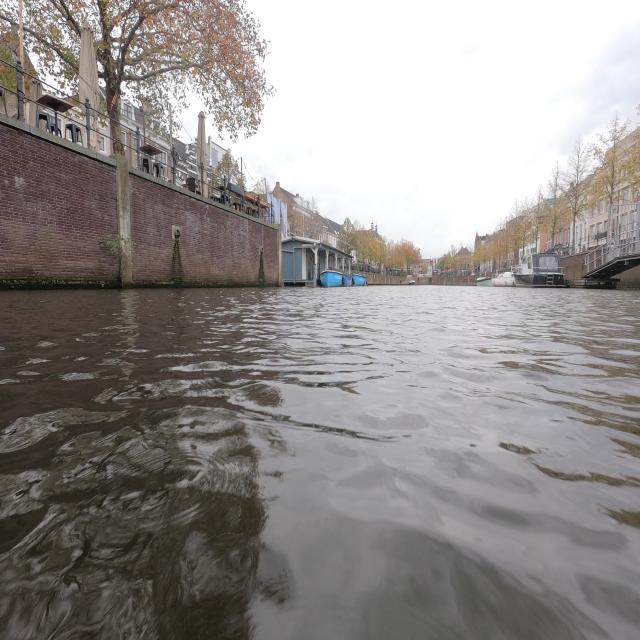boat: (0, 19, 61, 77), (510, 252, 565, 287), (320, 269, 353, 286), (534, 273, 545, 278)
sky: (250, 4, 638, 252)
tree: (92, 2, 268, 158)
wall: (0, 118, 290, 284)
water: (14, 290, 638, 634)
